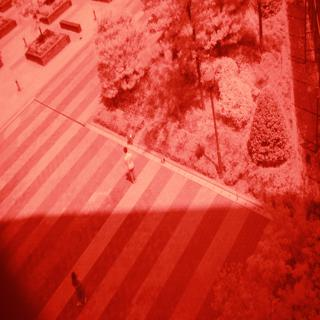person: (114, 141, 141, 190), (67, 263, 90, 308)
